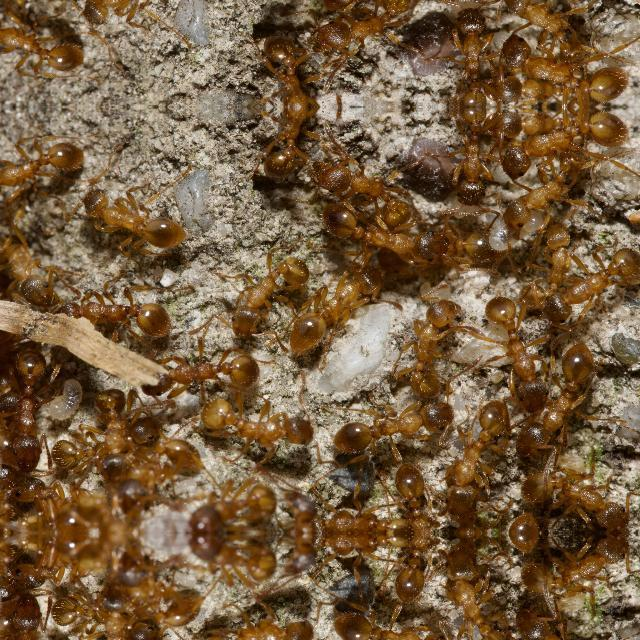Myrmica: (468, 291, 566, 409), (513, 341, 615, 454), (274, 256, 390, 354), (491, 148, 609, 242), (430, 390, 522, 502), (210, 243, 320, 335), (38, 270, 182, 340), (490, 106, 638, 174), (490, 38, 638, 106), (314, 199, 458, 267), (387, 290, 475, 400), (76, 177, 192, 256), (534, 238, 638, 326), (0, 340, 72, 460), (518, 454, 634, 528), (518, 538, 634, 610), (323, 396, 461, 456), (306, 150, 424, 220), (519, 206, 591, 318), (192, 392, 322, 454), (238, 106, 346, 178), (238, 34, 346, 106), (428, 106, 514, 194), (428, 18, 514, 106), (176, 534, 284, 604), (491, 0, 609, 64), (304, 0, 424, 62), (176, 462, 284, 530), (428, 562, 522, 640), (54, 408, 164, 474), (144, 342, 266, 401), (0, 125, 92, 202), (0, 9, 92, 86), (0, 214, 70, 298), (426, 201, 504, 275), (116, 438, 200, 506), (116, 559, 200, 627), (54, 590, 164, 640), (18, 466, 98, 530), (18, 535, 98, 599), (306, 491, 426, 532), (382, 457, 448, 531), (382, 534, 448, 608), (306, 534, 426, 574), (323, 608, 461, 640), (76, 0, 192, 34), (192, 610, 321, 640), (513, 610, 615, 640), (264, 478, 320, 532), (264, 533, 320, 587), (0, 604, 72, 640), (493, 508, 585, 532), (493, 534, 585, 556)
